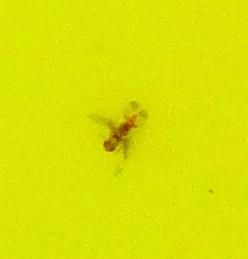Hemiptera: (100, 100, 148, 159)
